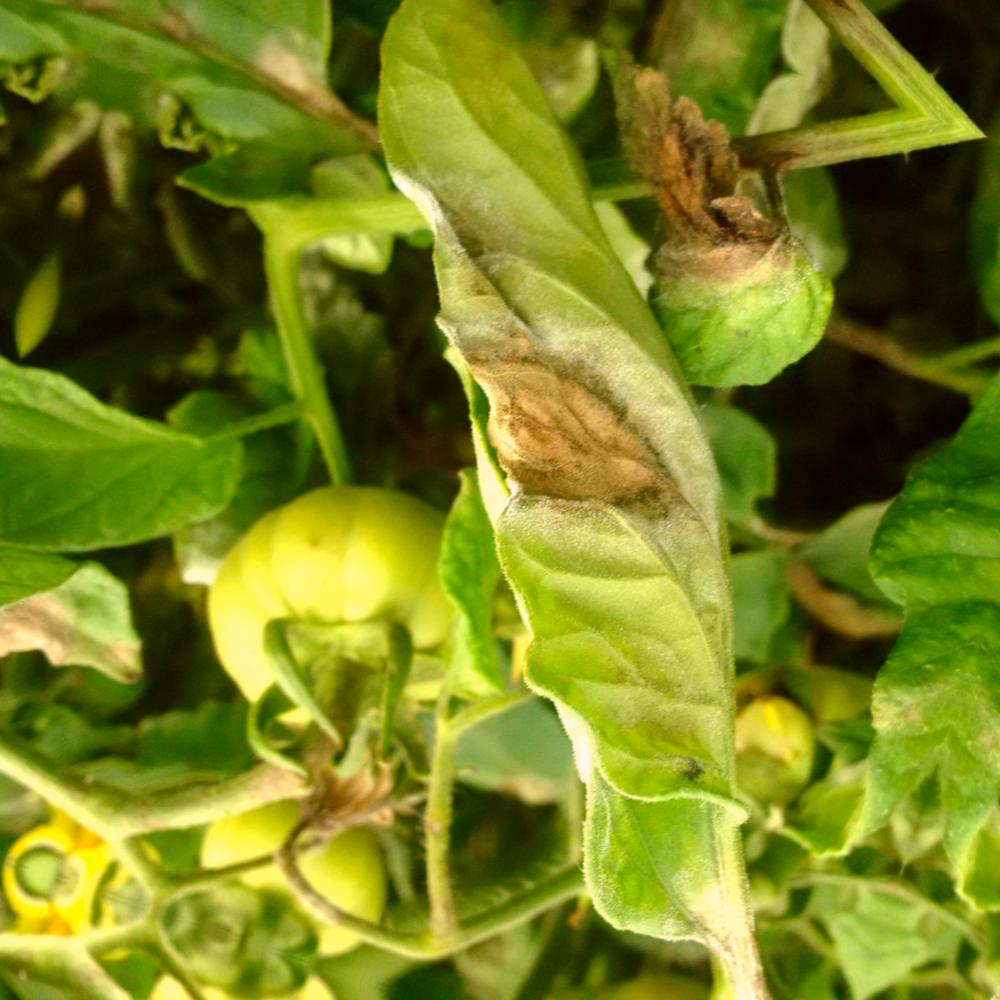Tomato leaf late blight: (90, 0, 1000, 1000), (503, 40, 904, 428)
